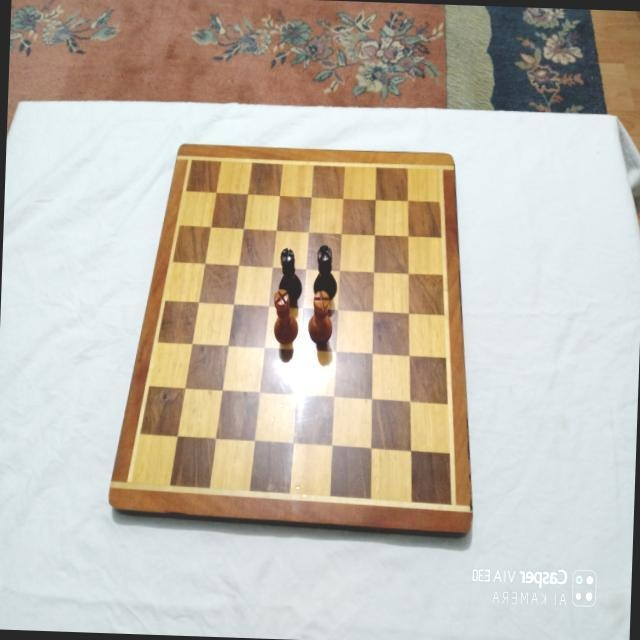black-rook: (276, 246, 303, 302), (312, 243, 338, 301)
white-rook: (272, 287, 300, 344), (306, 288, 334, 343)
